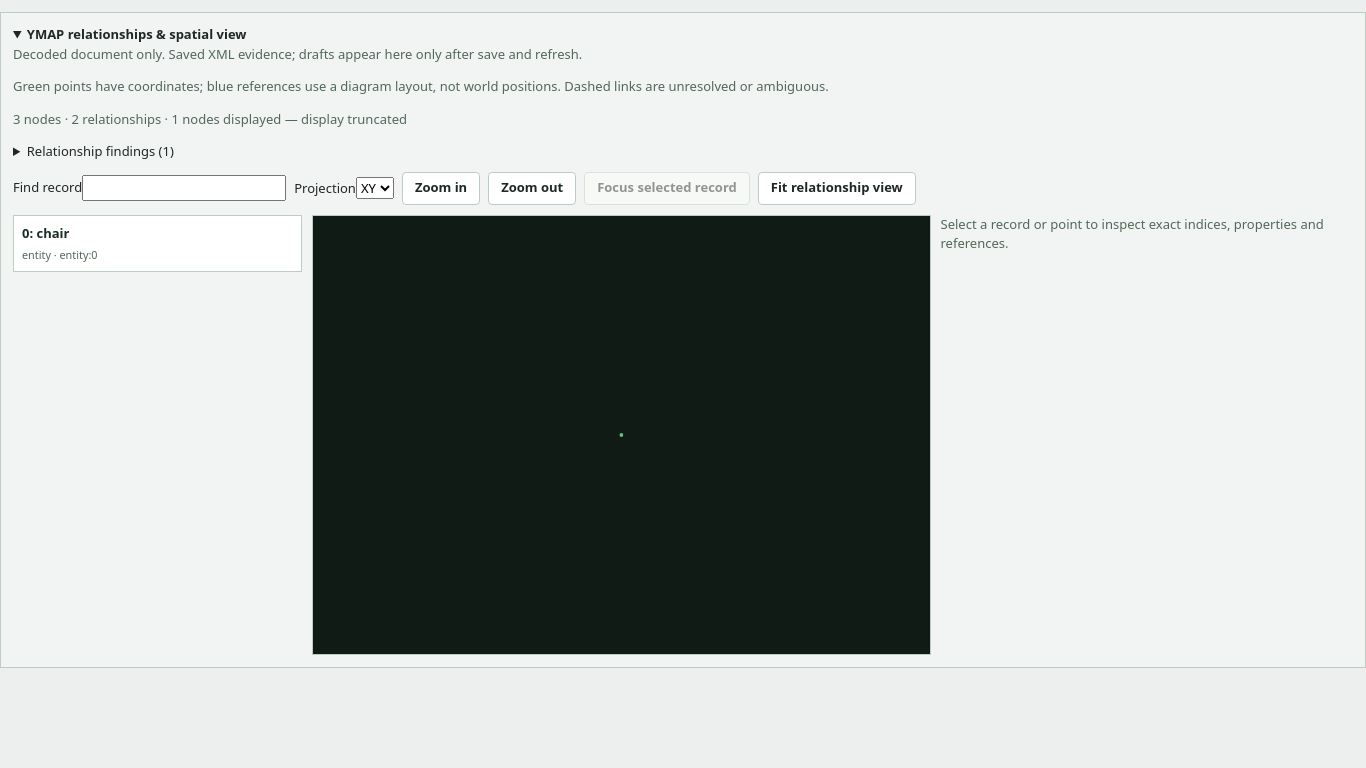
shows truncation and missing endpoints instead of implying the graph is complete
Click the option "0: chair entity · entity:0". click: coordinates (46, 232)
box: [13,214,302,272]
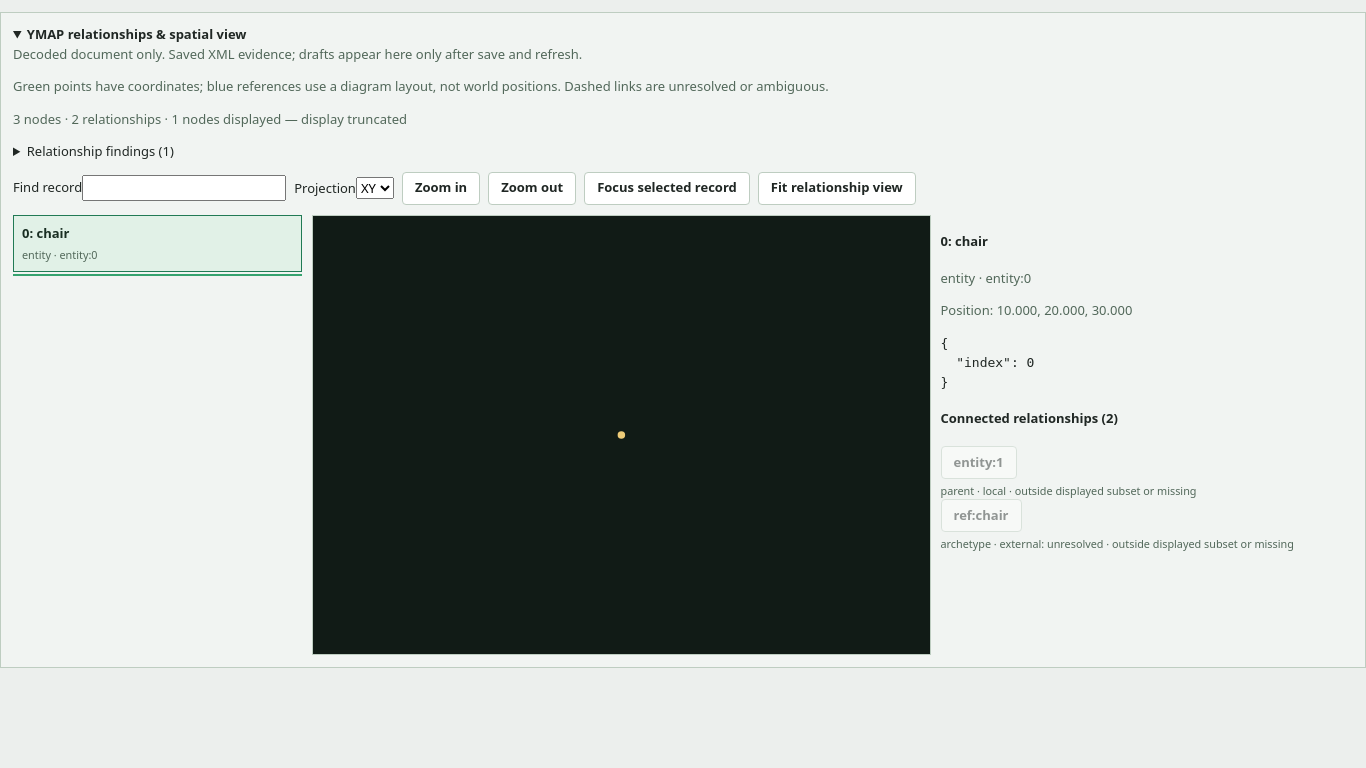
Expected: the button "entity:1" is disabled, [940,446,1016,479]
Expected: the text "parent · local · outside displayed subset or missing" is shown 2 times, [940,483,1196,498]; [940,536,1353,553]
